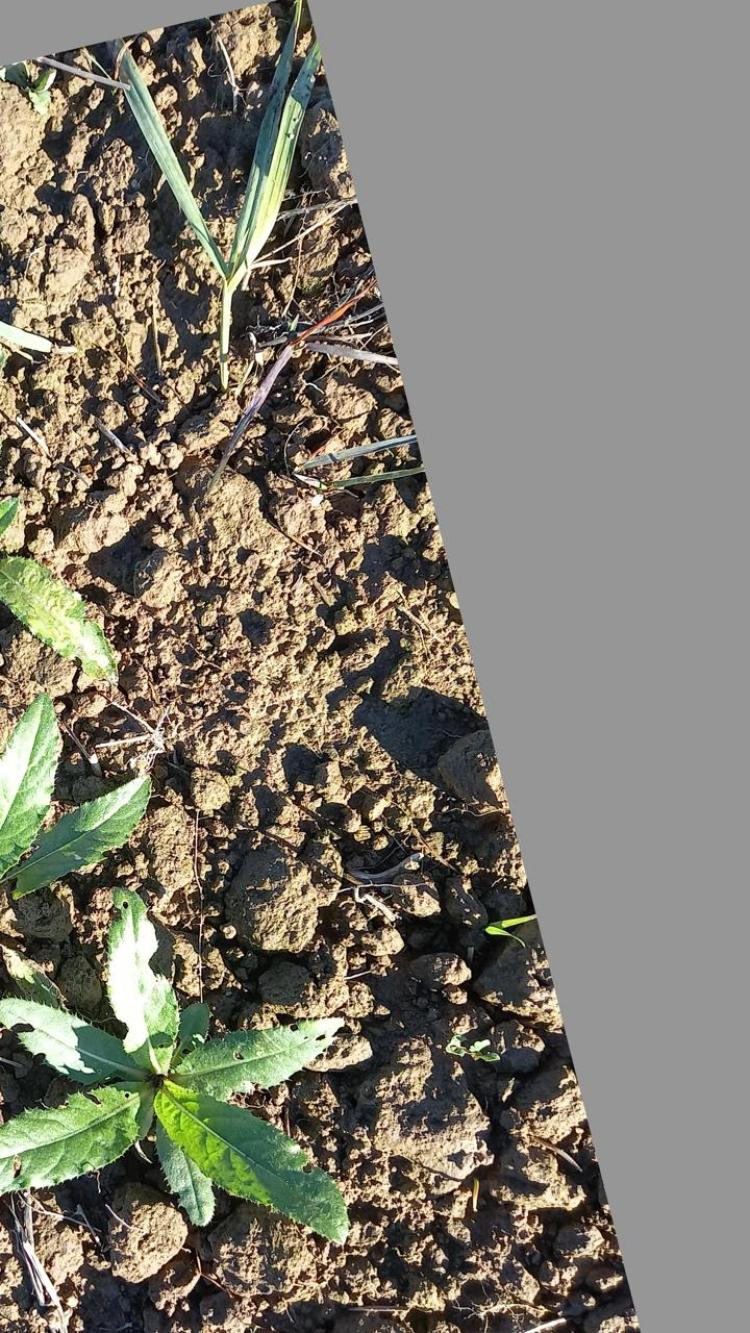osot: (10, 896, 384, 1253)
